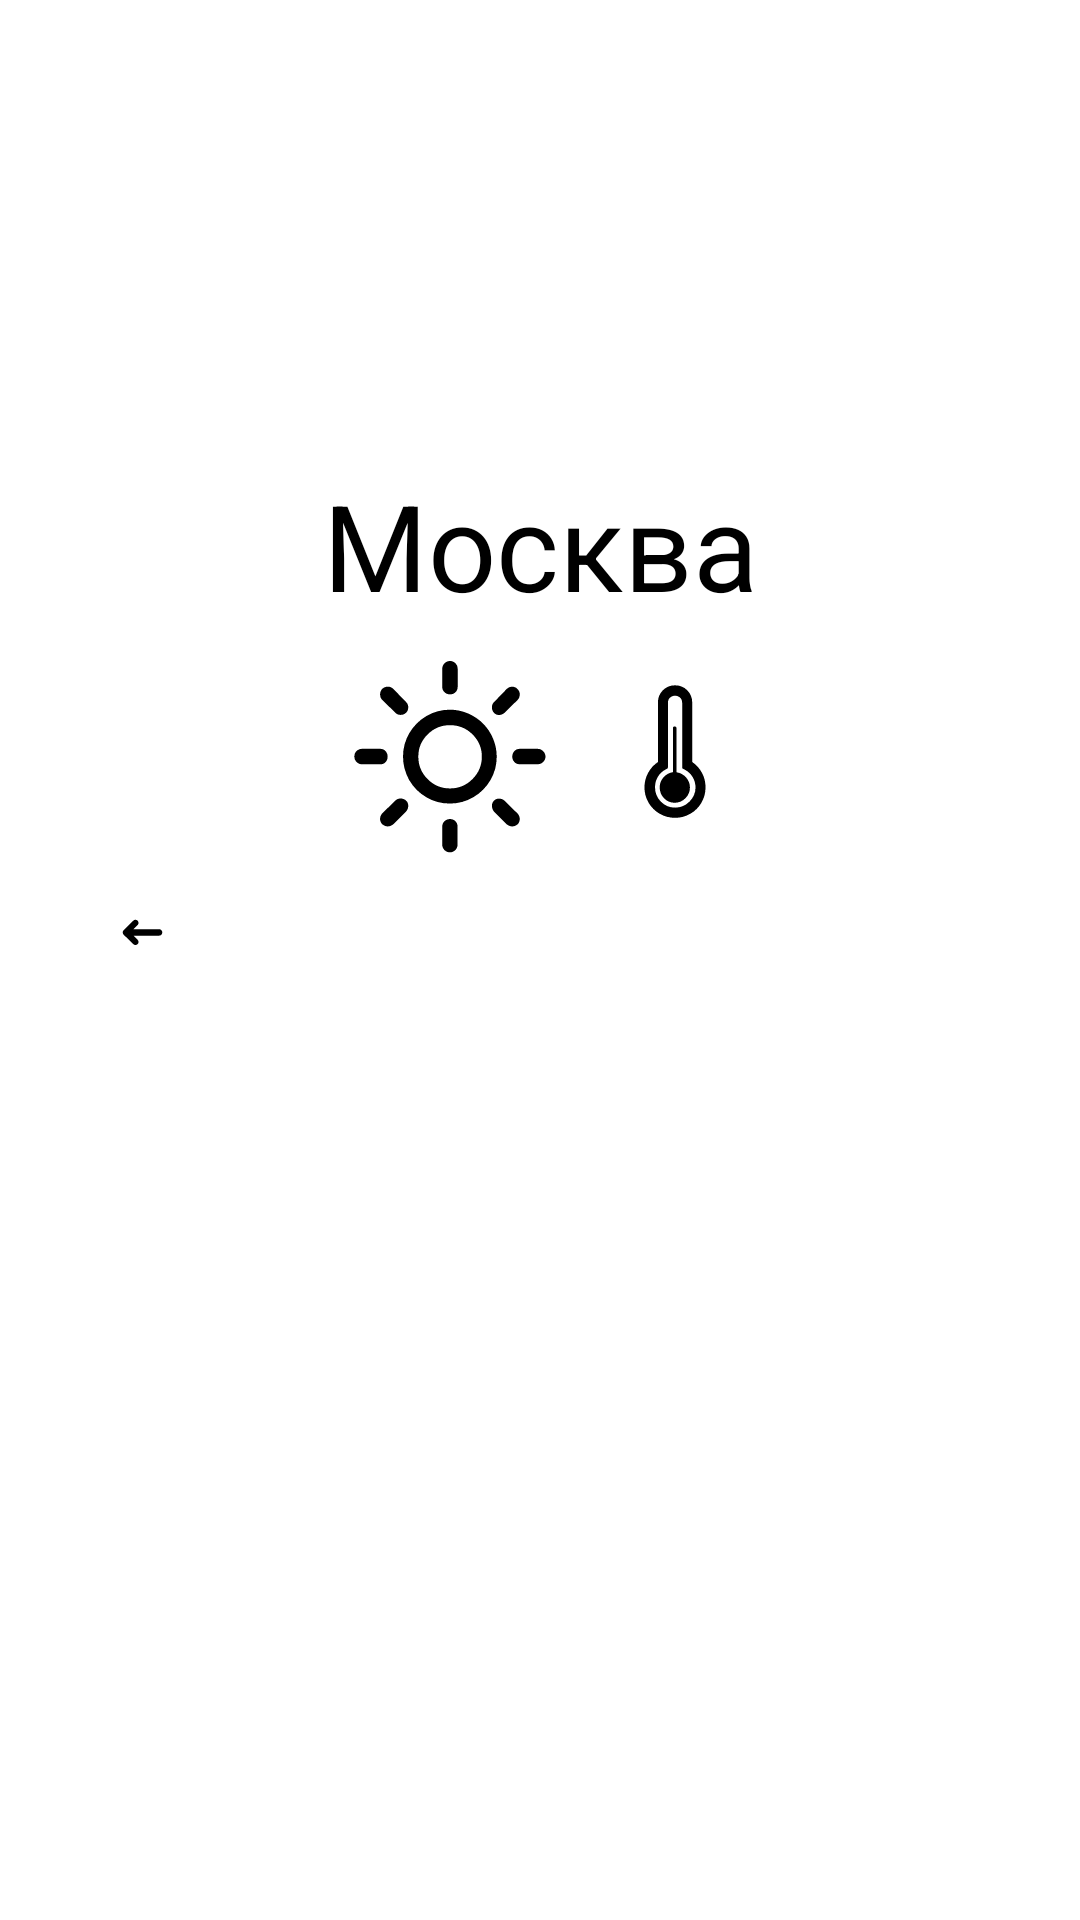

Icons on this 1080 x 1920 Android screen, each with its box as BBox(x1, y1, x2, y2):
day clear: BBox(354, 661, 546, 853)
direction left: BBox(122, 919, 163, 945)
thermometer: BBox(644, 685, 706, 818)
